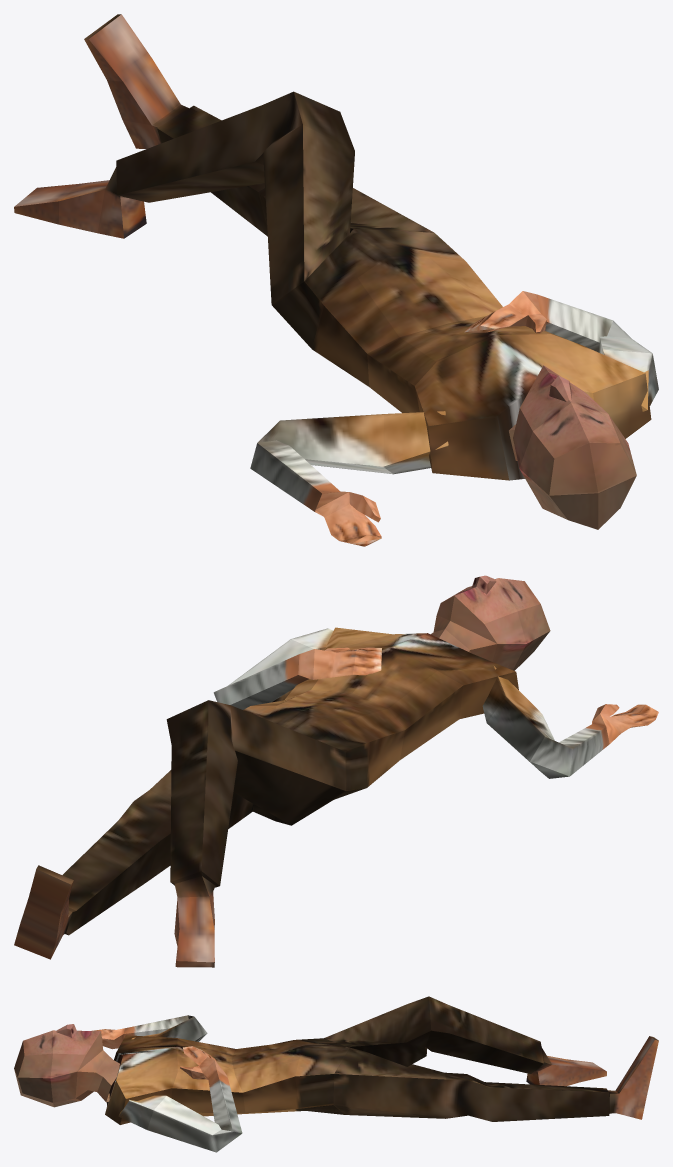
File: bodyMaleRIG.fbx
3 renders of one model, top to bottom at view 1: azimuth 30°, elevation 25°; view 2: azimuth 150°, elevation 25°; view 3: azimuth 270°, elevation 25°, orthographic. The views are drawn at different scales.
Visible parts, largest first — view 1: body; view 2: body; view 3: body.
Boxes of the visible parts, bbox=[...] form: body: bbox=[14, 14, 658, 546]; body: bbox=[14, 575, 658, 967]; body: bbox=[14, 996, 658, 1152].
Bounding box in the file's own units: 11.43 × 26.23 × 5.3.
Materials: 2 (2 with a texture image).
